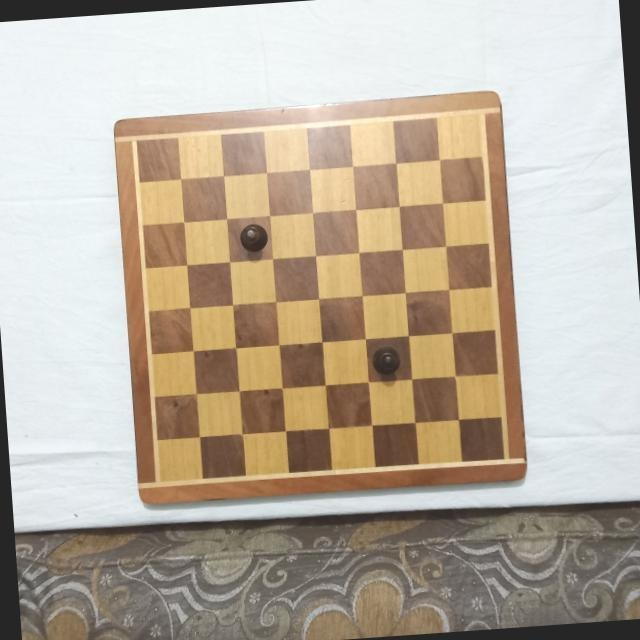black-pawn: (368, 345, 400, 377), (238, 221, 270, 253)
